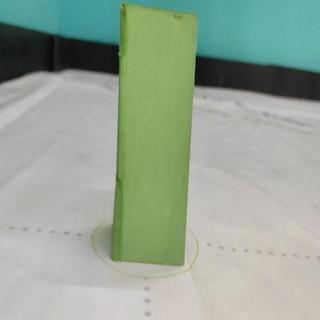greenbox: (112, 1, 200, 266)
